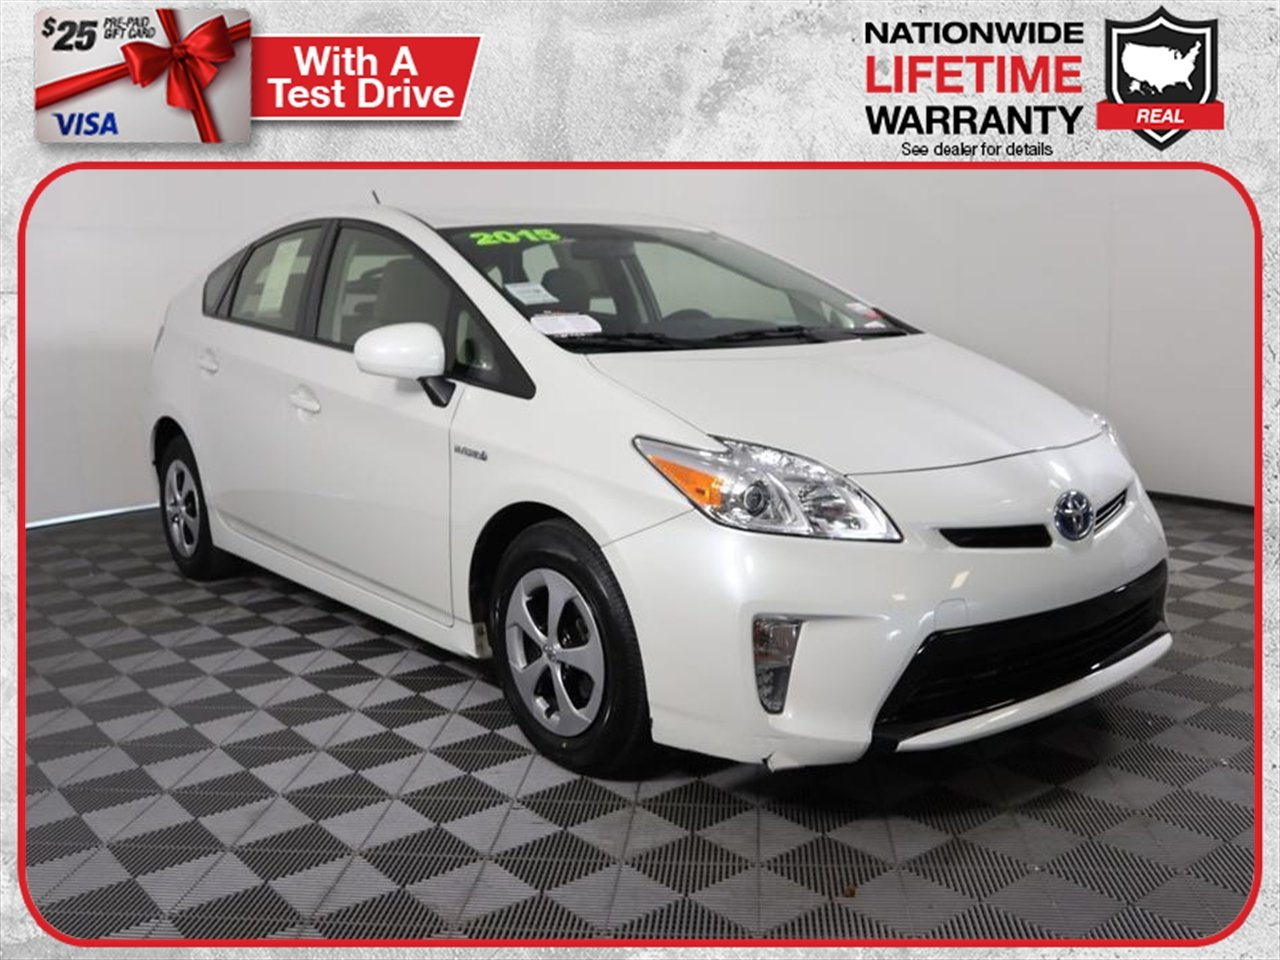Toyota Prius: (144, 195, 1180, 784)
